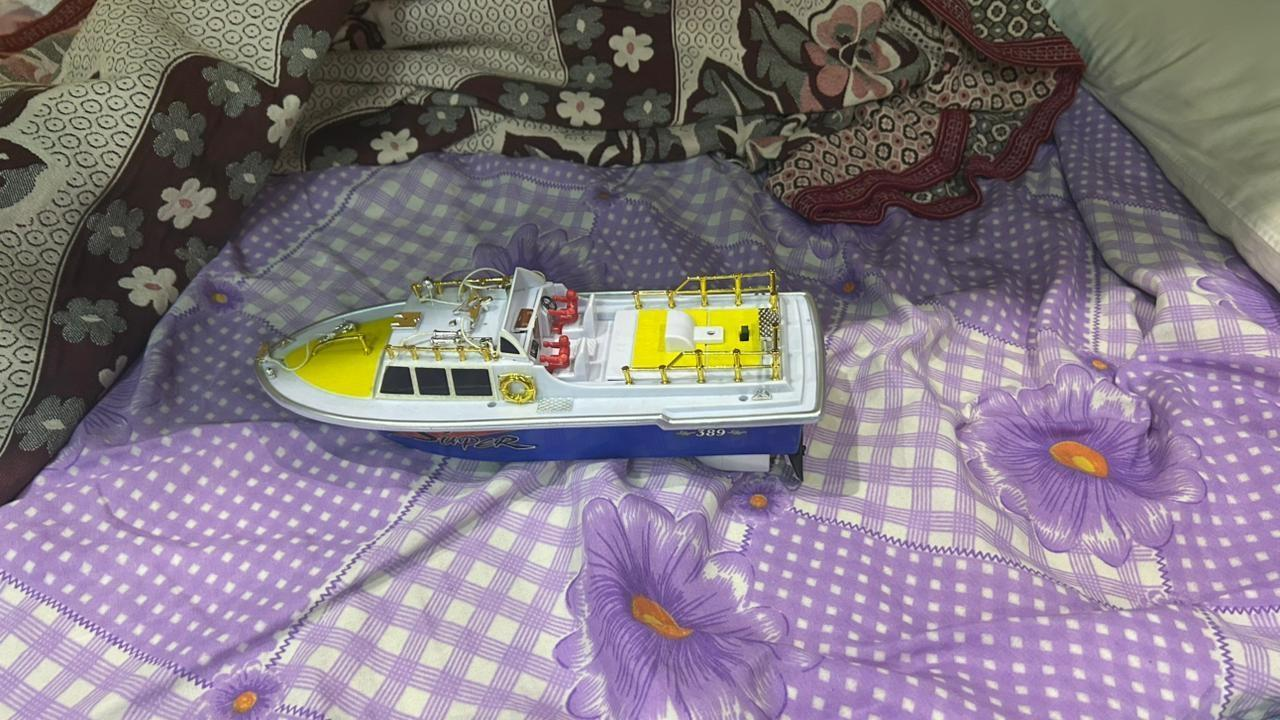Boat: (250, 254, 838, 496)
